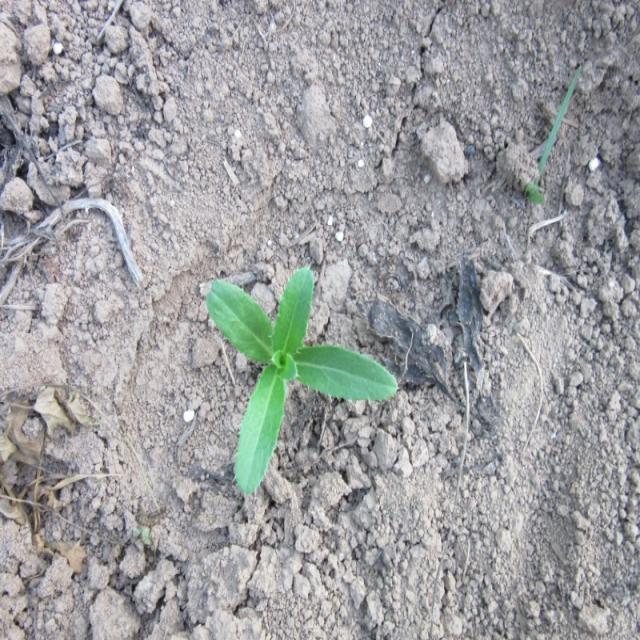cs: (202, 260, 403, 503)
